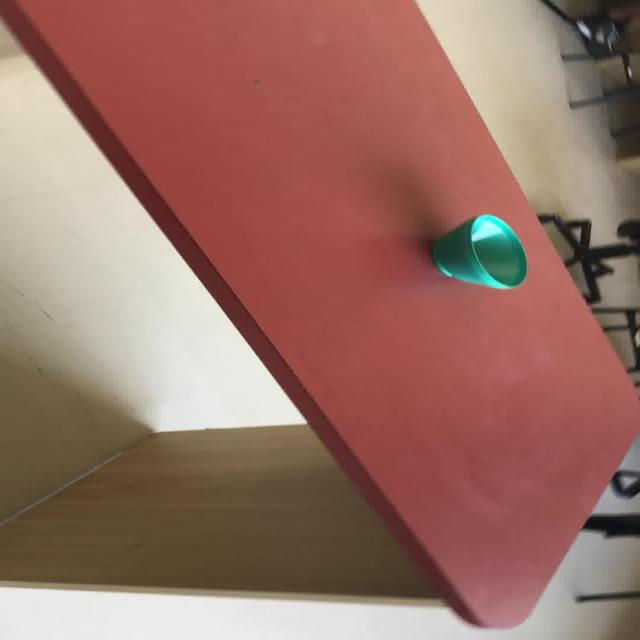bowl: (2, 0, 637, 628), (430, 213, 528, 290)
